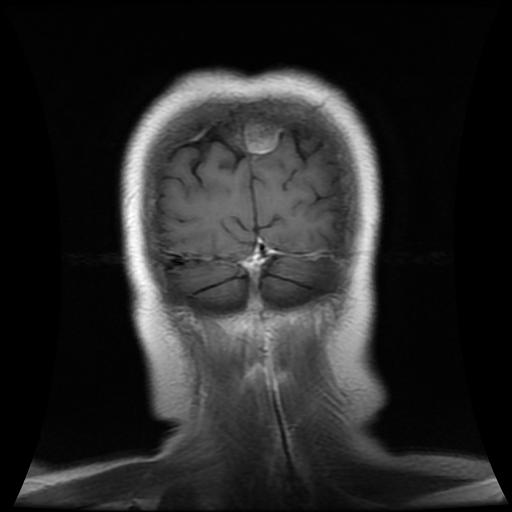Menigiomia_tumour: (243, 120, 281, 154)
